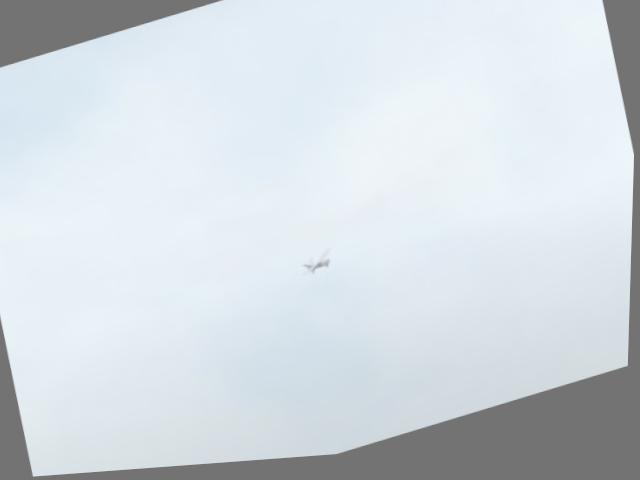uav: (300, 246, 339, 285)
